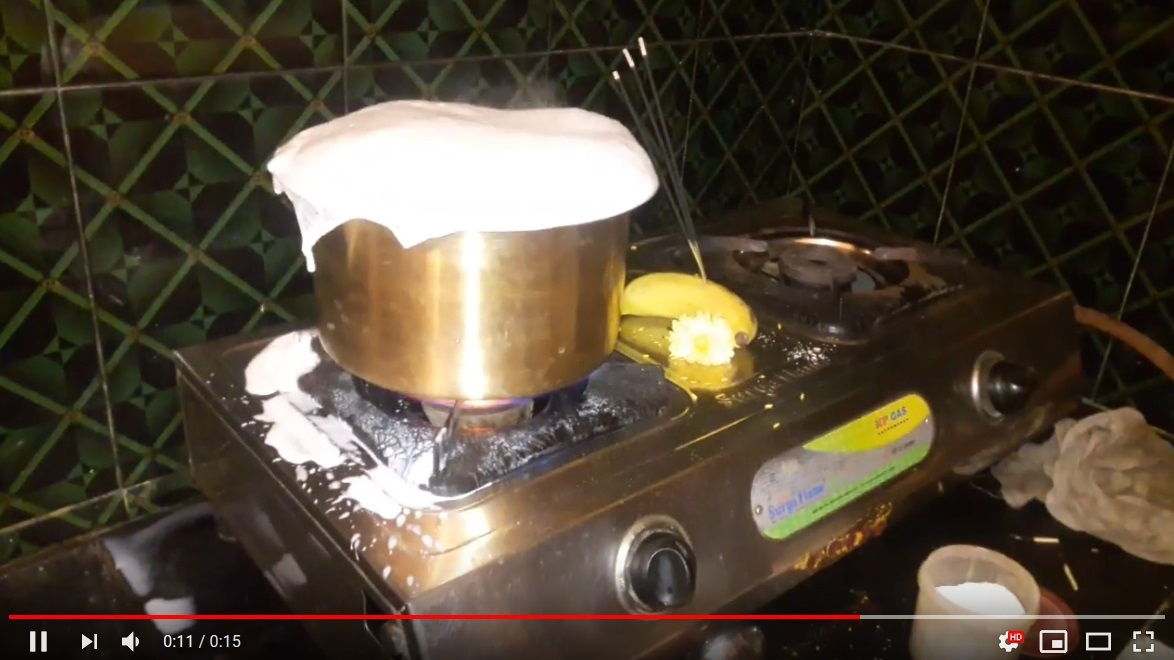Boiled: (239, 99, 665, 427)
